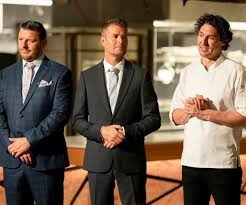Bad: (74, 14, 246, 205), (1, 17, 160, 205)
